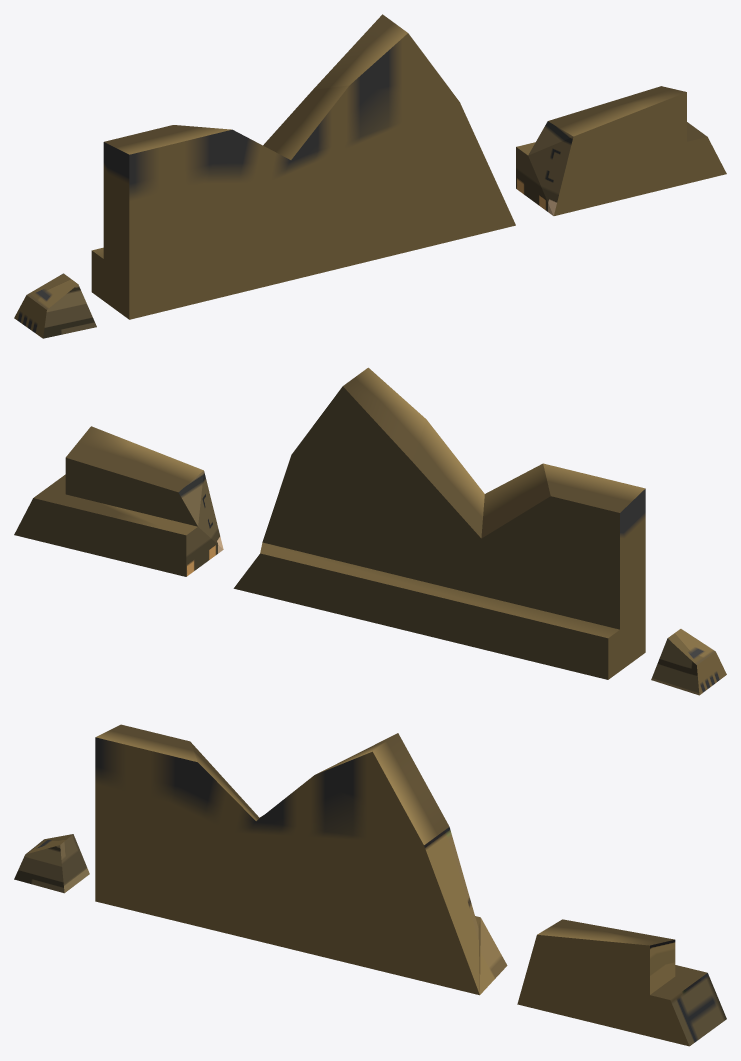
The model's file is wall_damaged_03.gltf.
3 renders of one model, top to bottom at view 1: azimuth 30°, elevation 25°; view 2: azimuth 150°, elevation 25°; view 3: azimuth 330°, elevation 25°, orthographic.
Visible parts, largest first — view 1: wall_damaged_03; view 2: wall_damaged_03; view 3: wall_damaged_03.
Part boxes in pixels (x1,y1,x2,y2): wall_damaged_03: [14, 14, 726, 338]; wall_damaged_03: [14, 367, 726, 695]; wall_damaged_03: [14, 724, 726, 1046].
Bounding box in the file's own units: 6.51 × 1.99 × 0.6212.
1 material, 1 textured.
